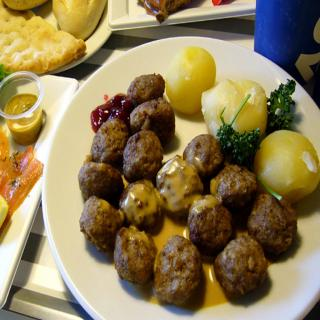Potato: (254, 127, 320, 205), (201, 78, 267, 138), (166, 46, 216, 115)
